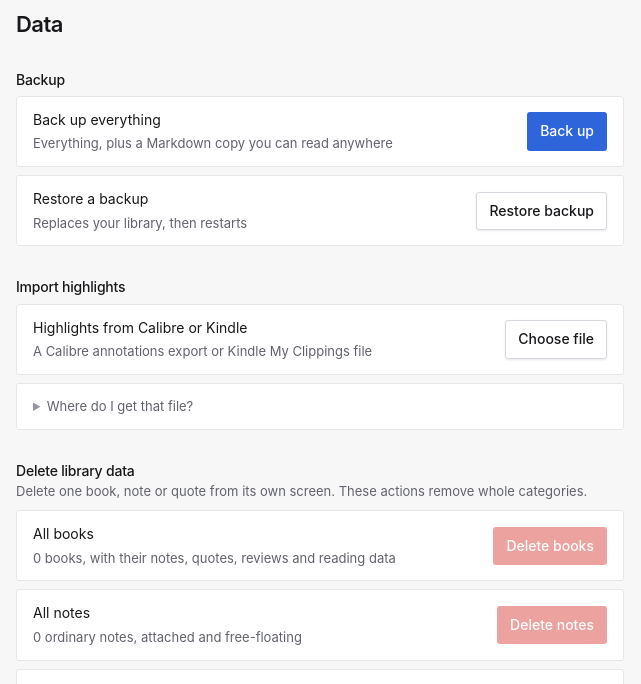
Test: the Data screen › backs up, naming where it went and what went with it
Click the button "Back up". click: click(567, 132)
box: [527,112,607,151]
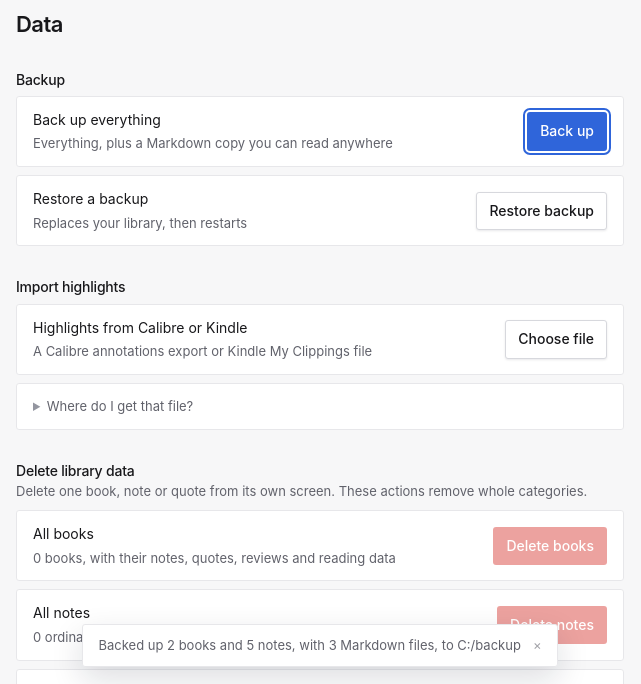
Now the text "3 Markdown files, to C:/backup" is shown, box [98,637,521,653]
